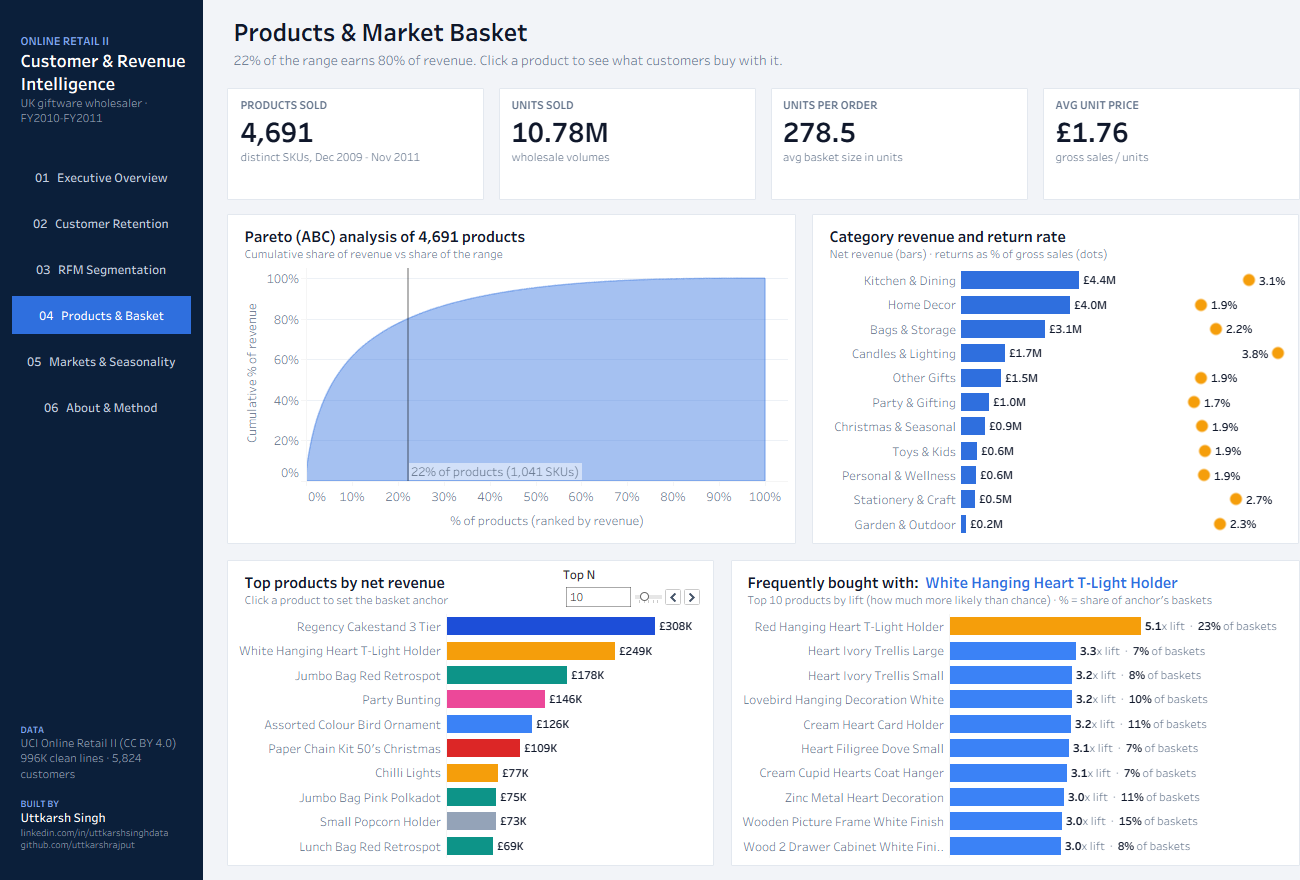

The page's visual inventory and layout, read from the dashboard file:
{"tool":"tableau","page":{"name":"Products & Basket","canvas":[1300,880],"ordinal":3},"visuals":[{"type":"blank","box":[0,0,200,880]},{"type":"text","box":[224,14,820,34]},{"type":"text","box":[14,22,180,118]},{"type":"text","box":[224,48,980,24]},{"type":"blank","box":[224,88,253.5,112]},{"type":"blank","box":[491.5,88,253.5,112]},{"type":"blank","box":[759,88,253.5,112]},{"type":"blank","box":[1026.5,88,253.5,112]},{"type":"worksheet","title":"KPI Products Sold","mark":"Text","box":[232,98,237.5,94]},{"type":"worksheet","title":"KPI Units","mark":"Text","box":[499.5,98,237.5,94]},{"type":"worksheet","title":"KPI Units per Order","mark":"Text","box":[767,98,237.5,94]},{"type":"worksheet","title":"KPI Avg Unit Price","mark":"Text","box":[1034.5,98,237.5,94]},{"type":"dashboard-object","box":[12,158,176,38]},{"type":"dashboard-object","box":[12,204,176,38]},{"type":"blank","box":[224,214,560,330]},{"type":"blank","box":[800,214,480,330]},{"type":"text","box":[234,222,540,44]},{"type":"text","box":[810,222,460,44]},{"type":"dashboard-object","box":[12,250,176,38]},{"type":"worksheet","title":"Product Pareto","mark":"Area","rows":["Calculation_3092107013759802107"],"cols":["Calculation_2345271585728326164"],"box":[232,268,544,268]},{"type":"worksheet","title":"Category Revenue and Returns","mark":"Bar","rows":["Category"],"cols":["Calculation_1692587521312325413","Calculation_1477744696104706571"],"box":[808,268,464,268]},{"type":"dashboard-object","box":[12,296,176,38]},{"type":"dashboard-object","box":[12,342,176,38]},{"type":"dashboard-object","box":[12,388,176,38]},{"type":"blank","box":[224,560,480,306]},{"type":"blank","box":[720,560,560,306]},{"type":"parameter","param":"[Parameters].[Parameter 4]","box":[552,564,142,52]},{"type":"text","box":[234,568,310,44]},{"type":"text","box":[730,568,540,44]},{"type":"worksheet","title":"Top Products","mark":"Bar","rows":["Product"],"cols":["Calculation_1692587521312325413"],"box":[232,614,464,244]},{"type":"worksheet","title":"Bought Together","mark":"Bar","rows":["Product B"],"cols":["Lift"],"box":[728,614,544,244]},{"type":"text","box":[14,712,180,156]}]}

Visuals, with their boxes on the page's 1300x880 design canvas (x1, y1, x2, y2). These are canvas units, not pixel positions in the 1300x880 screenshot, which may show the page scaled, cropped or inside an application window:
blank: box(0, 0, 200, 880)
text: box(224, 14, 1044, 48)
text: box(14, 22, 194, 140)
text: box(224, 48, 1204, 72)
blank: box(224, 88, 478, 200)
blank: box(492, 88, 745, 200)
blank: box(759, 88, 1012, 200)
blank: box(1026, 88, 1280, 200)
"KPI Products Sold" worksheet (Text marks): box(232, 98, 470, 192)
"KPI Units" worksheet (Text marks): box(500, 98, 737, 192)
"KPI Units per Order" worksheet (Text marks): box(767, 98, 1004, 192)
"KPI Avg Unit Price" worksheet (Text marks): box(1034, 98, 1272, 192)
dashboard-object: box(12, 158, 188, 196)
dashboard-object: box(12, 204, 188, 242)
blank: box(224, 214, 784, 544)
blank: box(800, 214, 1280, 544)
text: box(234, 222, 774, 266)
text: box(810, 222, 1270, 266)
dashboard-object: box(12, 250, 188, 288)
"Product Pareto" worksheet (Area marks): box(232, 268, 776, 536)
"Category Revenue and Returns" worksheet (Bar marks): box(808, 268, 1272, 536)
dashboard-object: box(12, 296, 188, 334)
dashboard-object: box(12, 342, 188, 380)
dashboard-object: box(12, 388, 188, 426)
blank: box(224, 560, 704, 866)
blank: box(720, 560, 1280, 866)
parameter: box(552, 564, 694, 616)
text: box(234, 568, 544, 612)
text: box(730, 568, 1270, 612)
"Top Products" worksheet (Bar marks): box(232, 614, 696, 858)
"Bought Together" worksheet (Bar marks): box(728, 614, 1272, 858)
text: box(14, 712, 194, 868)
